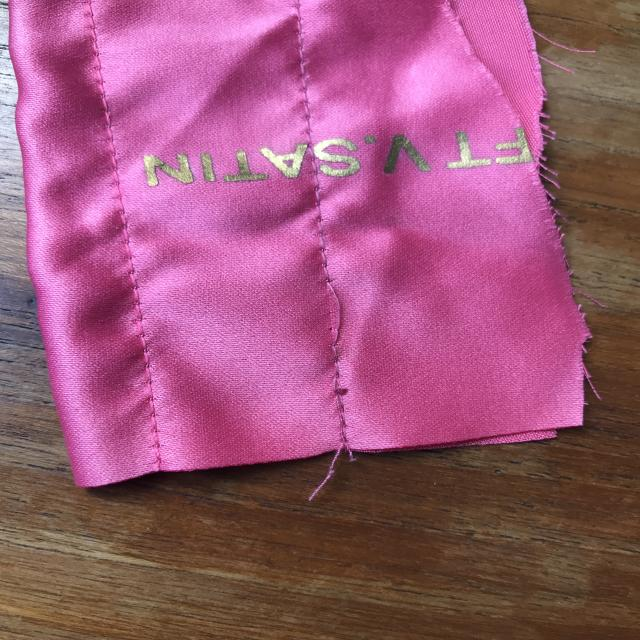skip: (305, 269, 369, 367)
